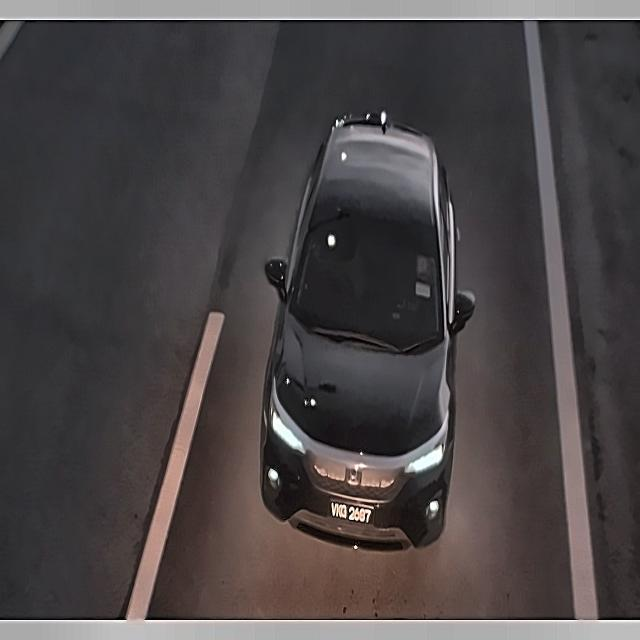car: (326, 488, 383, 536)
